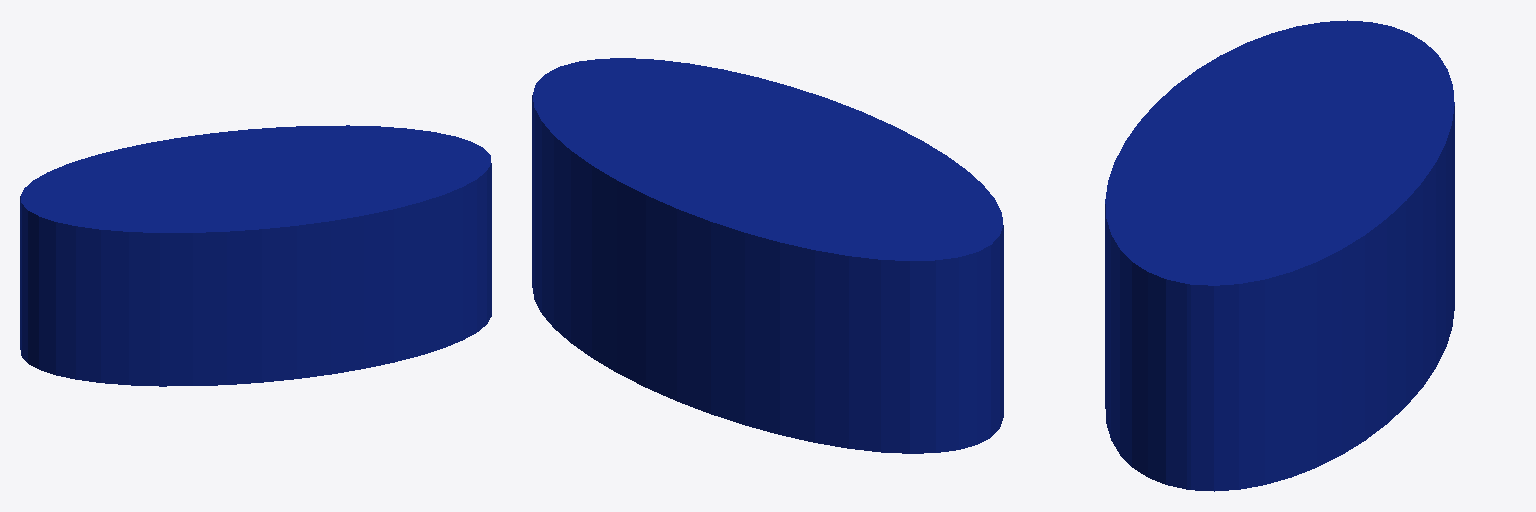
URDF robot description (block):
<robot name="block">
  <link name="block_base_link">

    <inertial>
      <origin rpy="0 0 0" xyz="-0.00721 0.036 0.015"/>
      <mass value="0.05"/>
      <inertia ixx="1.7371e-05" ixy="-7.711e-06" ixz="-9.5e-10" iyy="4.2174e-05" iyz="0.0" izz="4.7036e-05"/>

    </inertial>
    <collision>
      
      <geometry>
        <mesh filename="22.STL" scale="1 1 1"/>
      </geometry>
    </collision>
    <visual>
 
      <geometry>
        <mesh filename="22.STL" scale="1 1 1"/>
      </geometry>
      <material name="tray_material">
        <color rgba="0.1 0.2 0.6 1"/>
      </material>
    </visual>
  </link>
</robot>

--- Render facts (derived) ---
The picture shows the robot from 3 angles, left to right: view 1: azimuth 30°, elevation 25°; view 2: azimuth 150°, elevation 25°; view 3: azimuth 270°, elevation 25°; orthographic projection.
Model block with 1 links and 0 joints (none), rooted at block_base_link, posed all joints at 0.
Visible links, largest first — view 1: block_base_link; view 2: block_base_link; view 3: block_base_link.
Link boxes in pixels (left/top/right/bottom): block_base_link: left=20, top=125, right=491, bottom=386; block_base_link: left=532, top=58, right=1003, bottom=453; block_base_link: left=1105, top=20, right=1454, bottom=491.
Bounding box of the posed robot: 0.083 × 0.0462 × 0.03 m (x, y, z).
Meshes: 1 distinct files referenced, 1 mesh visuals loaded (1 binary STL).